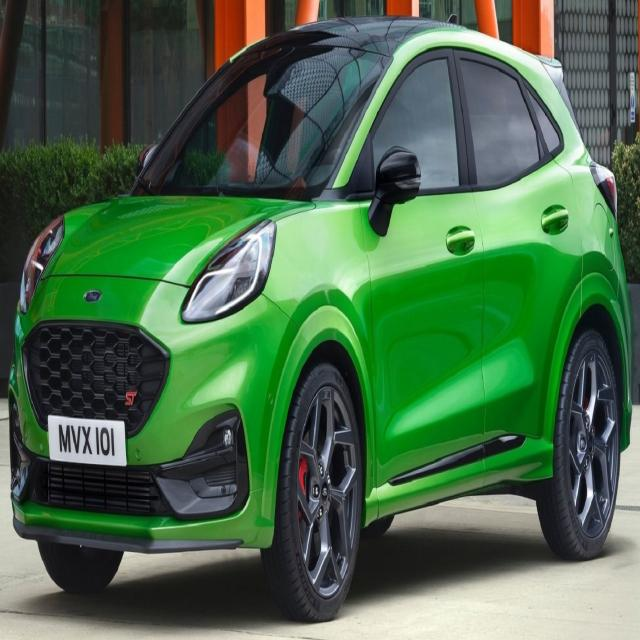green: (4, 16, 635, 608)
